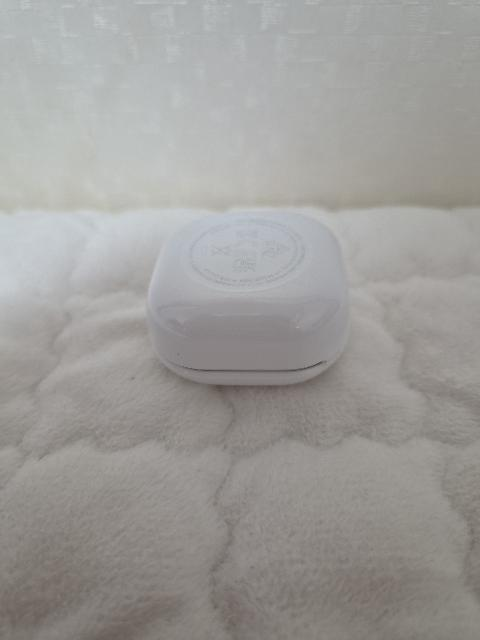earphone_case: (146, 212, 350, 386)
